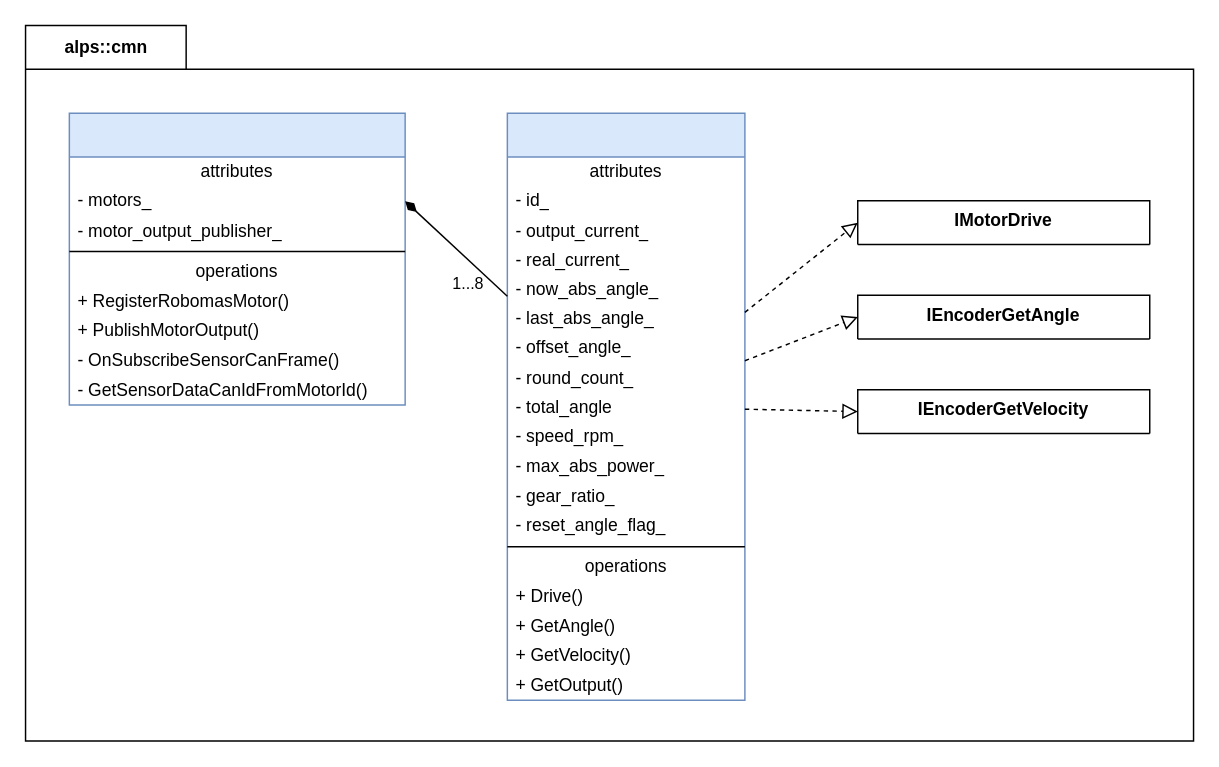
Image size: 1219x767. Some labels were removed from this diagram. The box of each missing label's shape, as (x1, y1, x2, y2) in pixels:
RobomasMotor: (506, 112, 745, 700)
RobomasMotorCanController: (68, 112, 405, 405)
